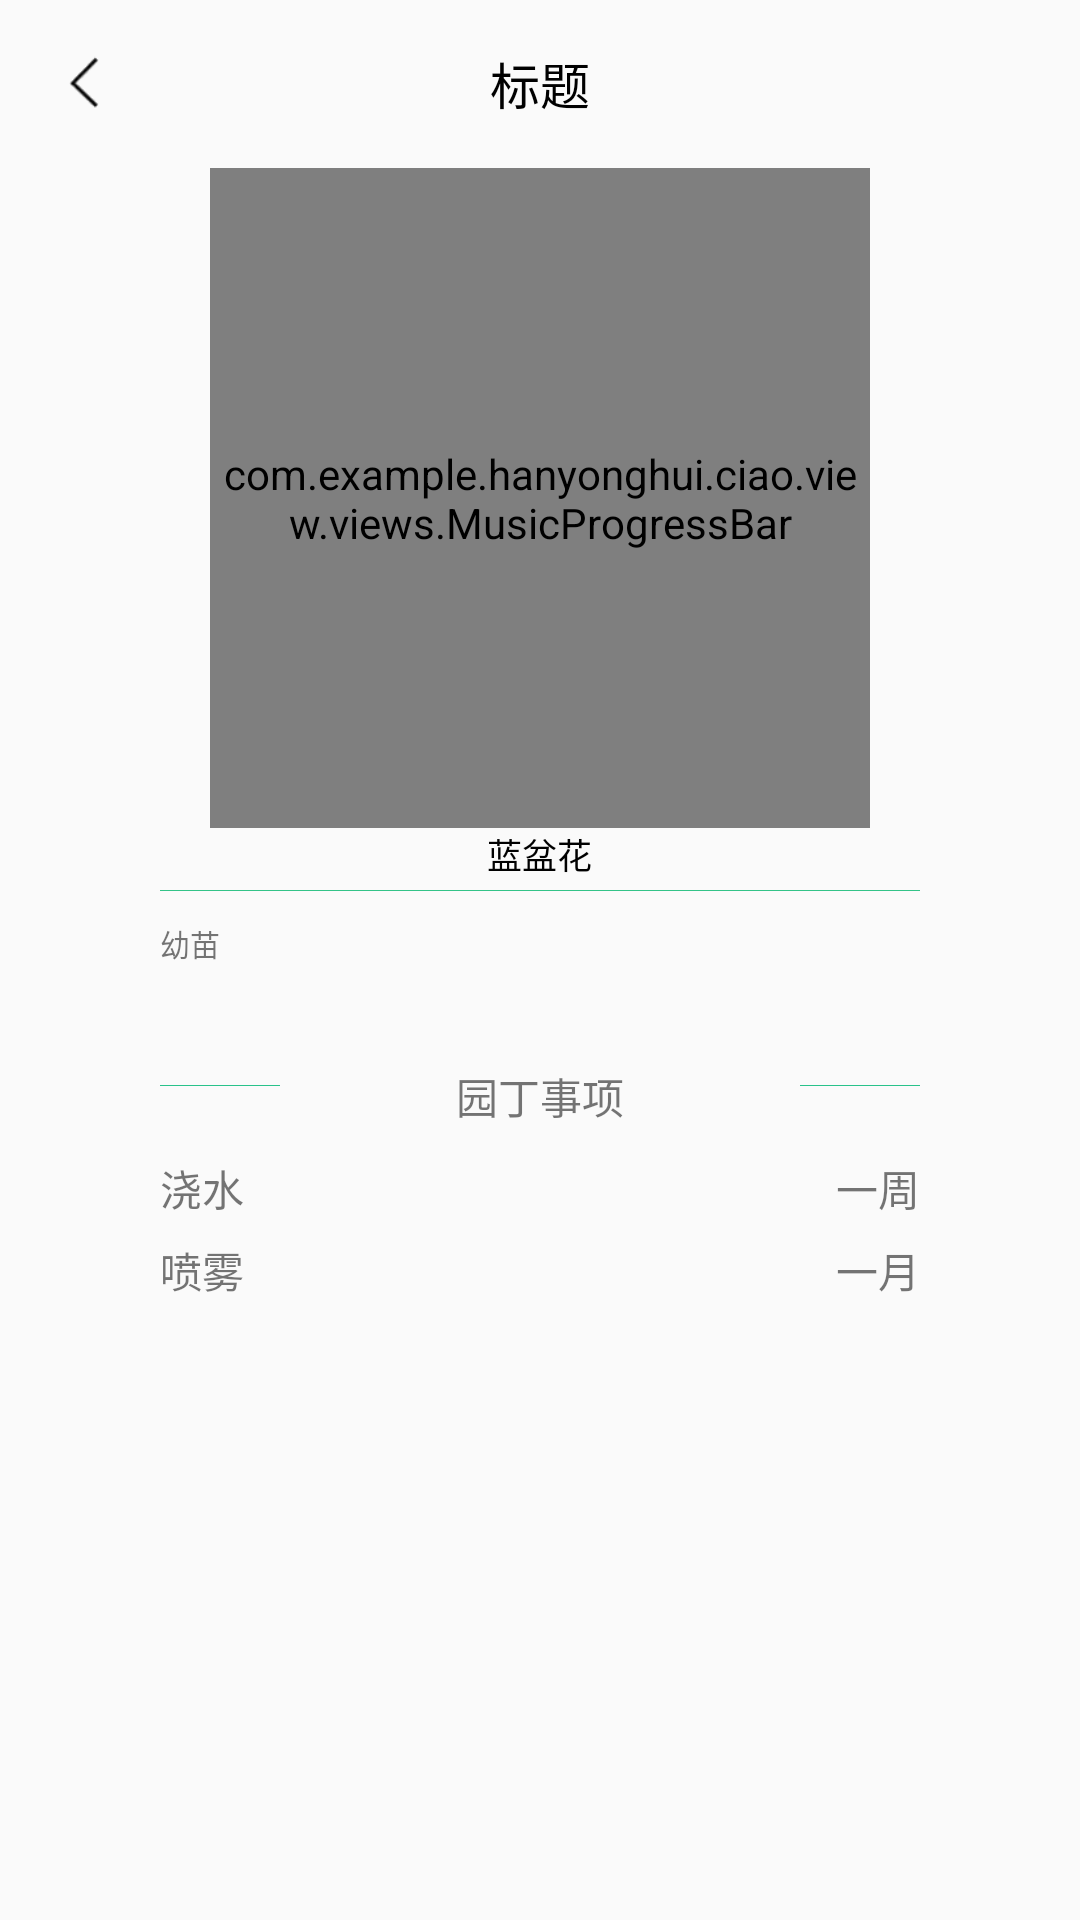

Where to tap for icons on this 1080x1920 app screen, as (x=x, y=y):
back: (x=84, y=82)
